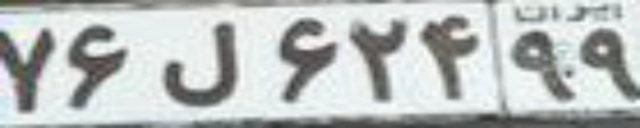2: (344, 16, 410, 102)
4: (415, 14, 481, 101)
6: (272, 16, 338, 102), (67, 24, 128, 107)
7: (0, 26, 56, 111)
9: (508, 29, 574, 103), (579, 27, 639, 102)
lam: (158, 21, 238, 108)
